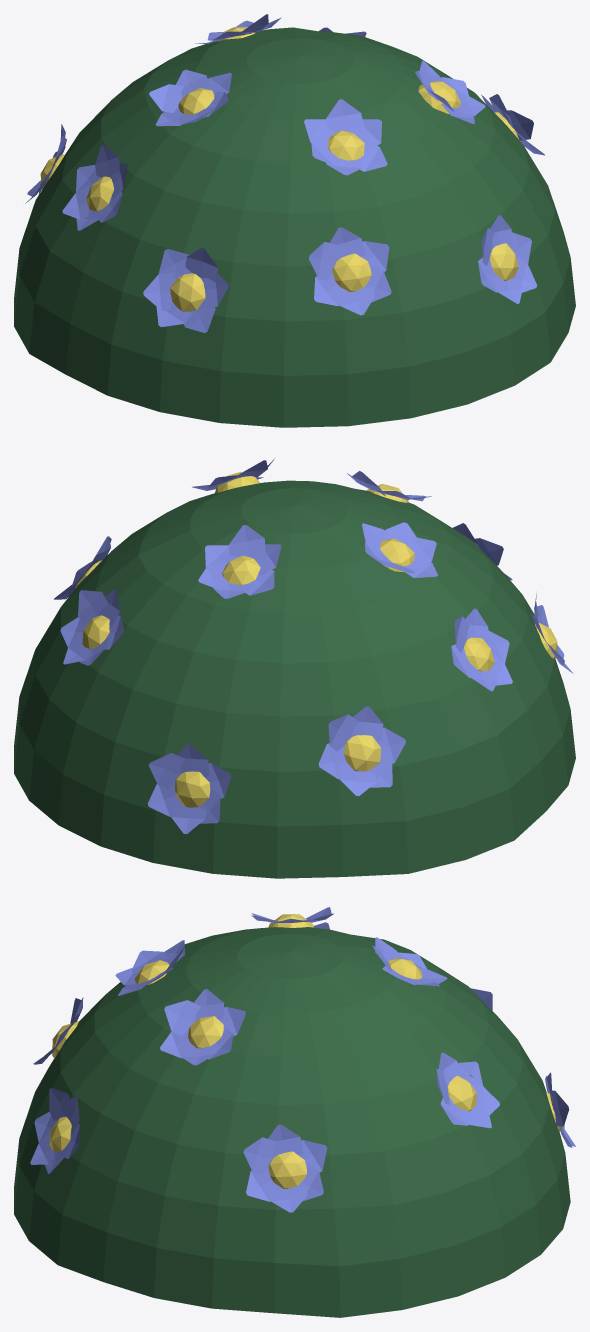
Rendered from arbusto2.glb.
3 renders of one model, top to bottom at view 1: azimuth 30°, elevation 25°; view 2: azimuth 150°, elevation 25°; view 3: azimuth 270°, elevation 25°, orthographic.
Visible parts, largest first — view 1: Esfera, Esfera geodésica.002, Esfera geodésica.010, Plano.070, Esfera geodésica.011, Plano.065, Esfera geodésica.008, Plano.016, Plano.017, Esfera geodésica.001, Plano.015, Plano.064 (+16 smaller); view 2: Esfera, Esfera geodésica.007, Esfera geodésica.004, Plano.058, Plano.028, Esfera geodésica.009, Esfera geodésica.006, Plano.029, Plano.047, Plano.034, Plano.045, Plano.046 (+13 smaller); view 3: Esfera, Esfera geodésica.003, Esfera geodésica.001, Plano.010, Plano.022, Esfera geodésica.005, Plano.023, Plano.021, Plano.009, Plano.018, Esfera geodésica.008, Plano.020 (+3 smaller).
Part boxes in pixels (x1,y1,x2,y2): Esfera: (14, 27, 575, 427); Esfera geodésica.002: (332, 253, 371, 291); Esfera geodésica.010: (170, 273, 205, 311); Plano.070: (326, 99, 364, 131); Esfera geodésica.011: (328, 130, 364, 160); Plano.065: (143, 272, 176, 310); Esfera geodésica.008: (489, 243, 518, 280); Plano.016: (309, 242, 337, 280); Plano.017: (335, 288, 374, 315); Esfera geodésica.001: (418, 81, 461, 113); Plano.015: (330, 227, 365, 262); Plano.064: (185, 247, 218, 282); Esfera: (14, 480, 575, 878); Esfera geodésica.007: (344, 735, 380, 771); Esfera geodésica.004: (175, 771, 210, 807); Plano.058: (229, 525, 265, 556); Plano.028: (148, 753, 185, 788); Esfera geodésica.009: (222, 555, 260, 585); Esfera geodésica.006: (464, 637, 494, 671); Plano.029: (171, 800, 206, 833); Plano.047: (339, 762, 375, 795); Plano.034: (78, 590, 108, 624); Plano.045: (351, 706, 383, 741); Plano.046: (328, 714, 359, 751); Esfera: (14, 927, 570, 1317); Esfera geodésica.003: (268, 1151, 306, 1188); Esfera geodésica.001: (188, 1016, 223, 1048); Plano.010: (164, 1000, 201, 1036); Plano.022: (243, 1137, 276, 1175); Esfera geodésica.005: (447, 1075, 476, 1111); Plano.023: (269, 1184, 307, 1212); Plano.021: (268, 1124, 303, 1157); Plano.009: (194, 989, 224, 1021); Plano.018: (246, 1168, 274, 1201); Esfera geodésica.008: (49, 1116, 71, 1152); Plano.020: (299, 1140, 327, 1172).
Bounding box in the file's own units: 1.96 × 1.02 × 1.98.
